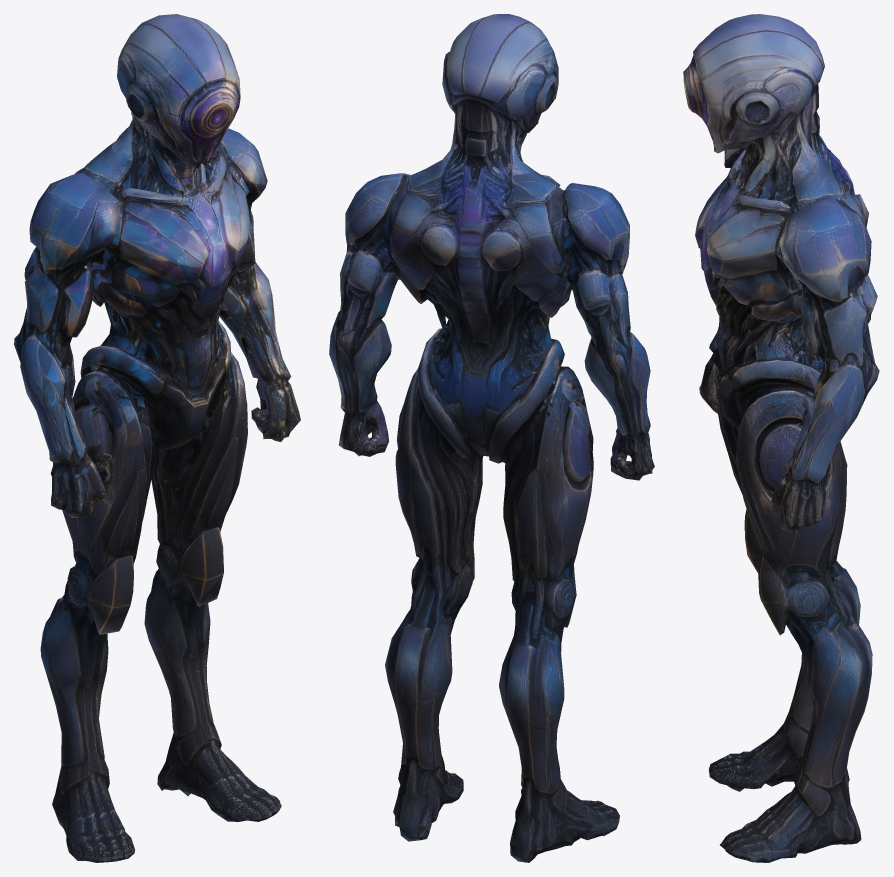
File: oracle.glb
The picture shows the model from 3 angles, left to right: view 1: azimuth 30°, elevation 25°; view 2: azimuth 150°, elevation 25°; view 3: azimuth 270°, elevation 25°; orthographic projection. The views are drawn at different scales.
Visible parts, largest first — view 1: Mesh1.0; view 2: Mesh1.0; view 3: Mesh1.0.
Part boxes in pixels (x1,y1,x2,y2): Mesh1.0: (14, 14, 300, 862); Mesh1.0: (329, 14, 654, 862); Mesh1.0: (683, 14, 879, 862).
Bounding box in the file's own units: 0.7162 × 1.91 × 0.423.
1 material, 1 textured.
